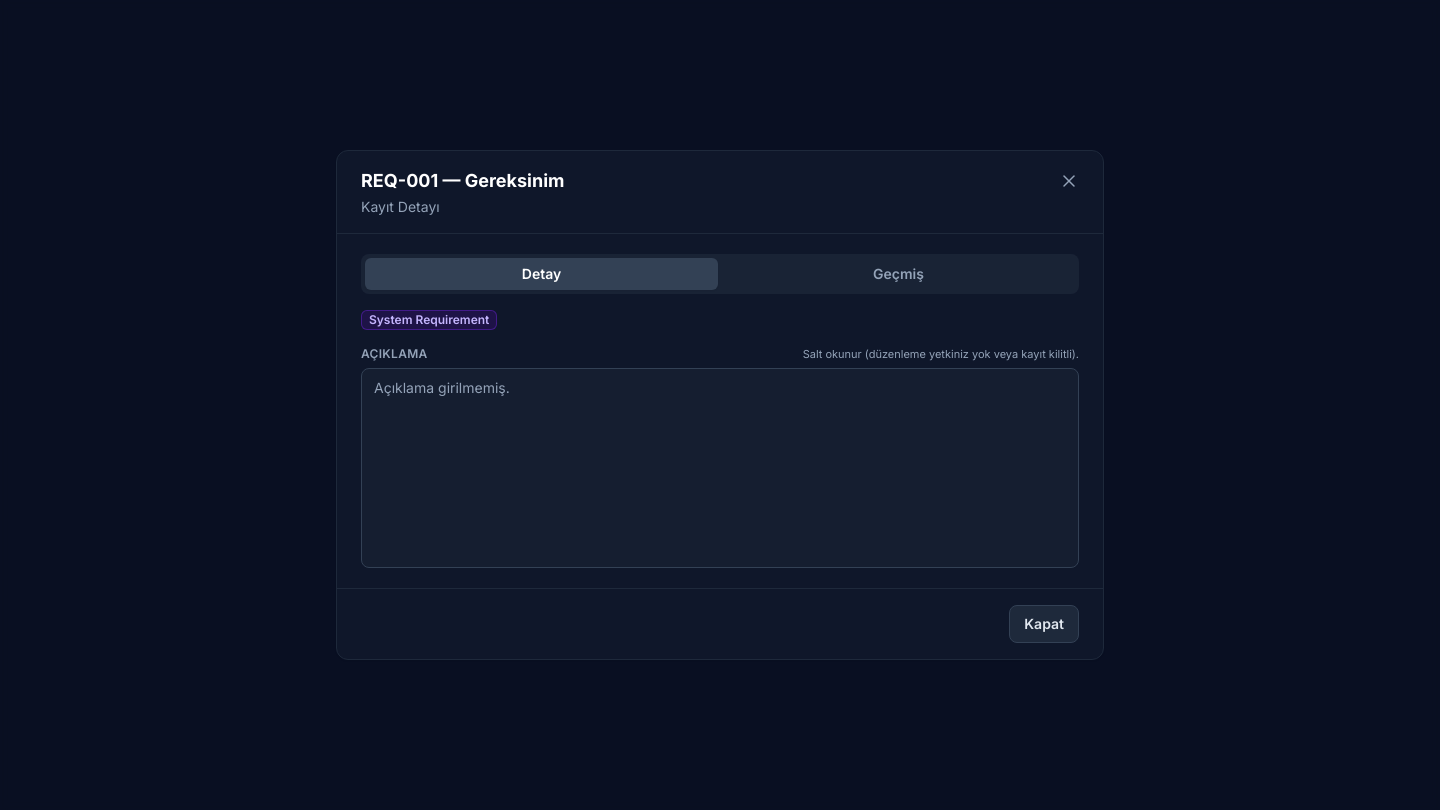
Test case: ViewModal — Geçmiş sekmesi › showHistory verilirse sekme cubugu gorunur ve Geçmiş acilir
Check: the tab "Detay" is shown, box [365, 258, 718, 290]
What coordinates should you click on to do the following:
click the tab "Geçmiş"
I would click on:
 (898, 274)
Its box is [722, 258, 1075, 290].
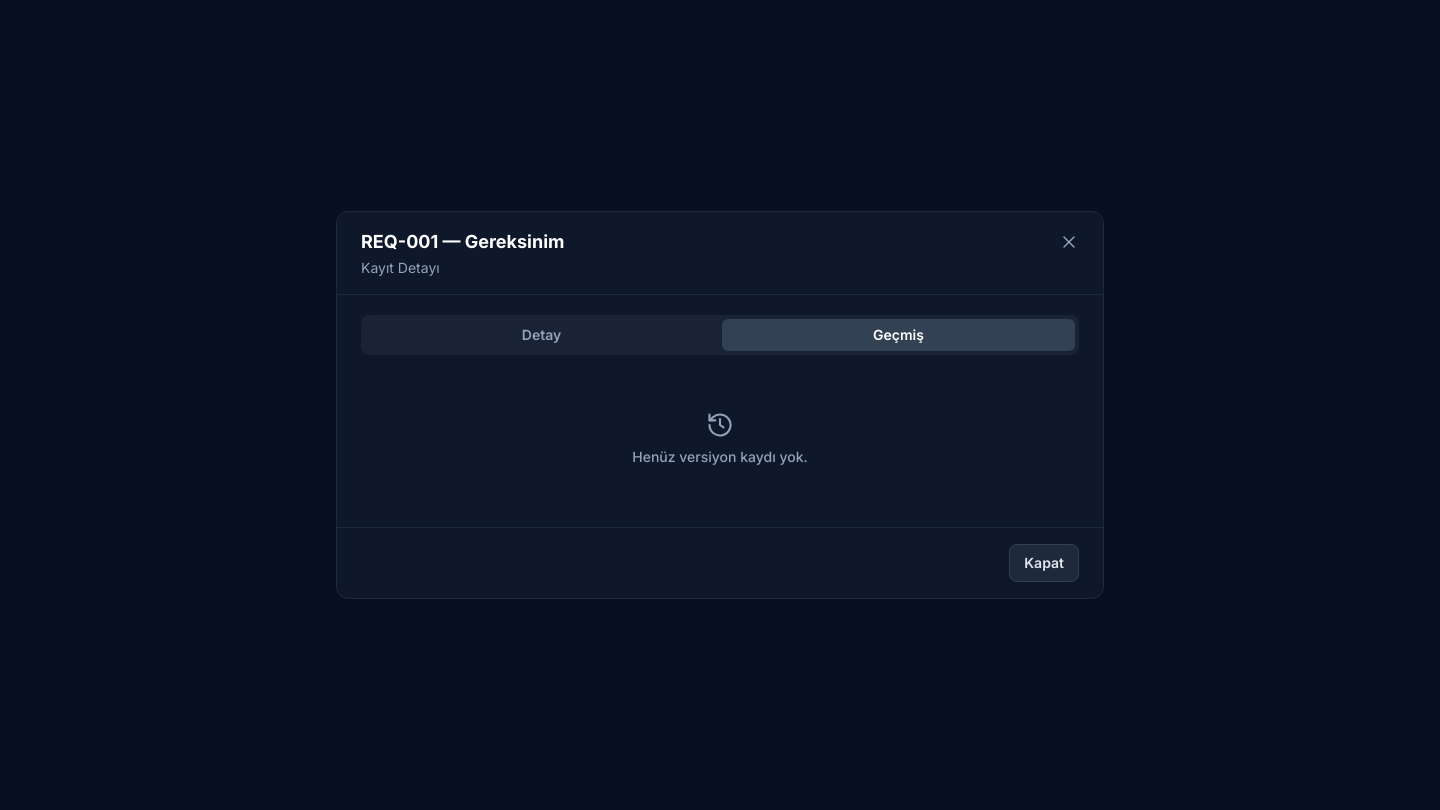
Check: the text "Henüz versiyon kaydı yok." is shown, box [632, 447, 808, 467]
